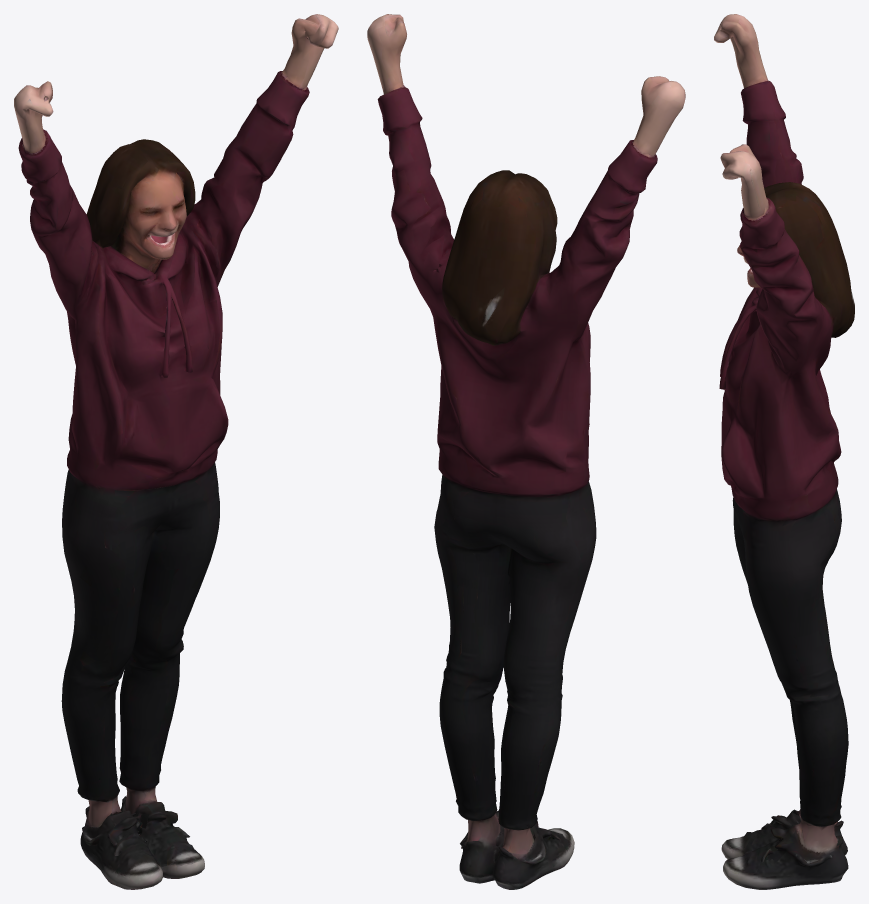
Rendered from fan-w-arms-s1.glb.
3 renders of one model, left to right at view 1: azimuth 30°, elevation 25°; view 2: azimuth 150°, elevation 25°; view 3: azimuth 270°, elevation 25°, orthographic. The views are drawn at different scales.
Visible parts, largest first — view 1: geometry_0; view 2: geometry_0; view 3: geometry_0.
Part boxes in pixels (x1,y1,x2,y2): geometry_0: [14, 14, 338, 889]; geometry_0: [367, 14, 685, 889]; geometry_0: [714, 14, 854, 889].
Size of the model in its own units: 0.4075 by 1 by 0.1611.
Materials: 1 (1 with a texture image).
